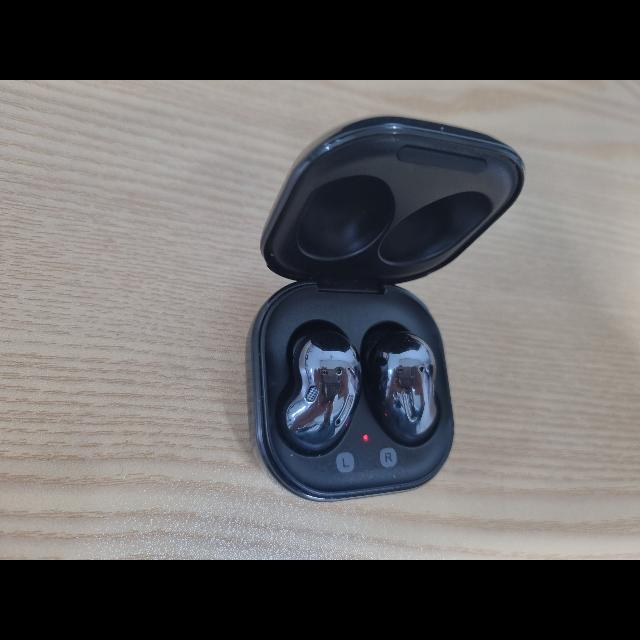buds_live: (243, 115, 529, 507)
